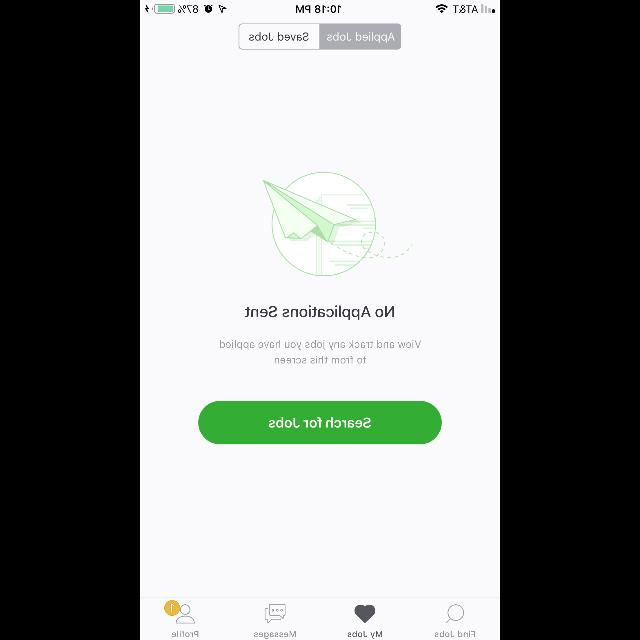icon: (164, 600, 196, 624), (264, 604, 286, 624), (354, 605, 376, 623), (446, 604, 464, 624)
image: (262, 172, 412, 276)
text: (220, 340, 420, 364), (244, 306, 394, 320), (254, 631, 296, 639), (434, 630, 474, 638), (348, 631, 382, 639), (172, 630, 198, 638)
textbutton: (198, 401, 442, 445), (238, 24, 320, 50), (320, 24, 400, 50)
uppertaskbar: (140, 0, 496, 14)
